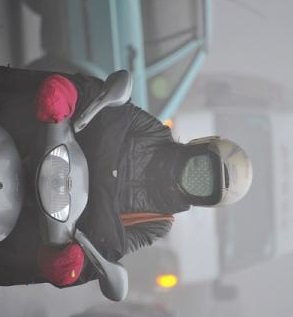person: (108, 102, 257, 260)
